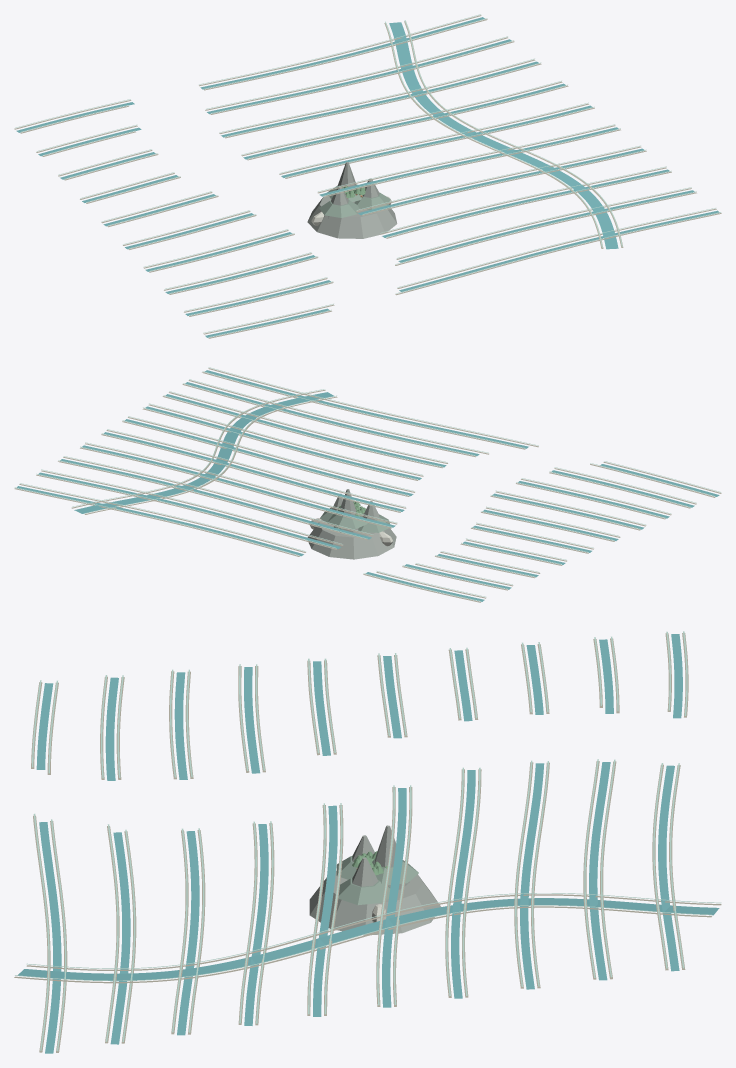
Rendered from world15-farm-environment.glb.
3 renders of one model, top to bottom at view 1: azimuth 30°, elevation 25°; view 2: azimuth 150°, elevation 25°; view 3: azimuth 270°, elevation 25°, orthographic. The views are drawn at different scales.
Visible parts, largest first — view 1: deep-blue-water.010, DistantIsland_mountain-stone, Channel_00_canal-stone, Channel_01_canal-stone, Channel_02_canal-stone, Channel_04_canal-stone, Channel_03_canal-stone, Channel_05_canal-stone, Channel_06_canal-stone, Channel_07_canal-stone, Channel_08_canal-stone, deep-blue-water (+23 smaller); view 2: DistantIsland_mountain-stone, deep-blue-water.010, Channel_00_canal-stone, Channel_01_canal-stone, Channel_02_canal-stone, Channel_03_canal-stone, Channel_04_canal-stone, Channel_05_canal-stone, Channel_06_canal-stone, Channel_07_canal-stone, Channel_08_canal-stone, deep-blue-water (+23 smaller); view 3: deep-blue-water.010, DistantIsland_mountain-stone, deep-blue-water, deep-blue-water.001, deep-blue-water.002, deep-blue-water.003, deep-blue-water.004, deep-blue-water.005, deep-blue-water.006, Channel_10_canal-stone, deep-blue-water.007, deep-blue-water.008 (+23 smaller).
Boxes of the visible parts, <box> form: deep-blue-water.010: <box>389,22,618,249</box>; DistantIsland_mountain-stone: <box>307,162,397,238</box>; Channel_00_canal-stone: <box>203,208,721,338</box>; Channel_01_canal-stone: <box>184,188,696,316</box>; Channel_02_canal-stone: <box>164,167,671,294</box>; Channel_04_canal-stone: <box>123,125,620,249</box>; Channel_03_canal-stone: <box>143,146,646,272</box>; Channel_05_canal-stone: <box>101,103,594,227</box>; Channel_06_canal-stone: <box>80,81,568,203</box>; Channel_07_canal-stone: <box>58,59,541,180</box>; Channel_08_canal-stone: <box>36,37,514,156</box>; deep-blue-water: <box>205,210,719,337</box>; DistantIsland_mountain-stone: <box>307,489,396,559</box>; deep-blue-water.010: <box>74,392,333,513</box>; Channel_00_canal-stone: <box>202,368,721,497</box>; Channel_01_canal-stone: <box>182,380,696,508</box>; Channel_02_canal-stone: <box>162,392,671,519</box>; Channel_03_canal-stone: <box>142,404,646,530</box>; Channel_04_canal-stone: <box>122,417,620,541</box>; Channel_05_canal-stone: <box>101,430,593,553</box>; Channel_06_canal-stone: <box>80,443,566,565</box>; Channel_07_canal-stone: <box>58,457,540,578</box>; Channel_08_canal-stone: <box>36,470,513,590</box>; deep-blue-water: <box>205,370,719,496</box>; deep-blue-water.010: <box>18,898,719,981</box>; DistantIsland_mountain-stone: <box>309,825,440,935</box>; deep-blue-water: <box>36,683,61,1053</box>; deep-blue-water.001: <box>105,677,130,1044</box>; deep-blue-water.002: <box>174,672,199,1035</box>; deep-blue-water.003: <box>244,667,268,1025</box>; deep-blue-water.004: <box>313,661,337,1016</box>; deep-blue-water.005: <box>382,656,406,1007</box>; deep-blue-water.006: <box>451,650,475,998</box>; Channel_10_canal-stone: <box>14,894,721,983</box>; deep-blue-water.007: <box>520,645,544,989</box>; deep-blue-water.008: <box>589,639,613,980</box>.
Size of the model in its own units: 76.9 by 10.89 by 62.04.
